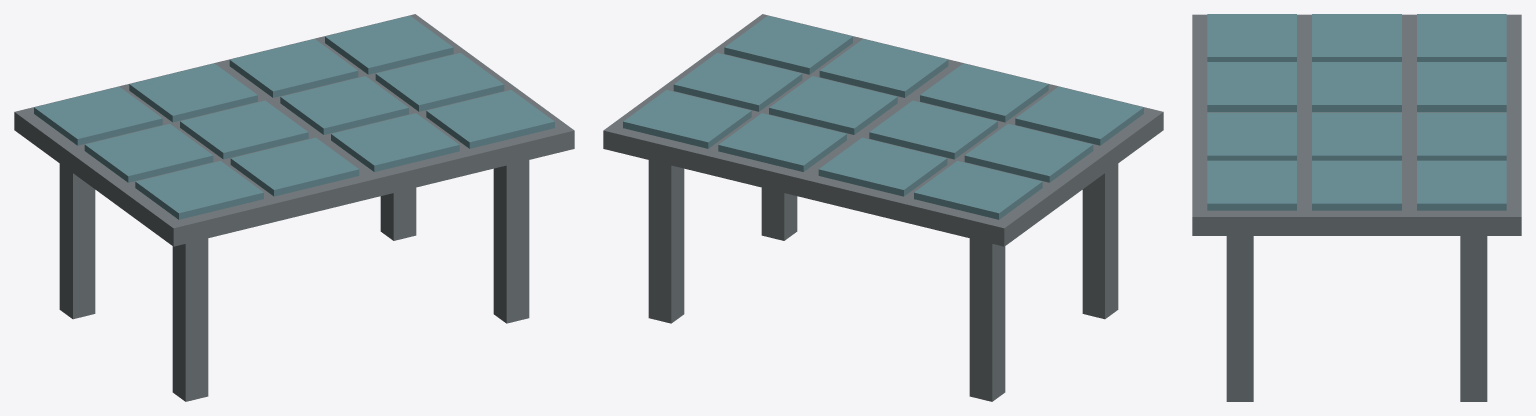
Rendered from solar_panel.glb.
3 views of the same model, side by side, from view 1: azimuth 30°, elevation 25°; view 2: azimuth 150°, elevation 25°; view 3: azimuth 270°, elevation 25° (orthographic). The views are drawn at different scales.
Visible parts, largest first — view 1: body; view 2: body; view 3: body.
Boxes of the visible parts, x1,y1,x2,y2 form: body: (14, 14, 574, 401); body: (603, 14, 1163, 401); body: (1192, 14, 1521, 401).
Size of the model in its own units: 1.6 by 0.7605 by 1.1.
